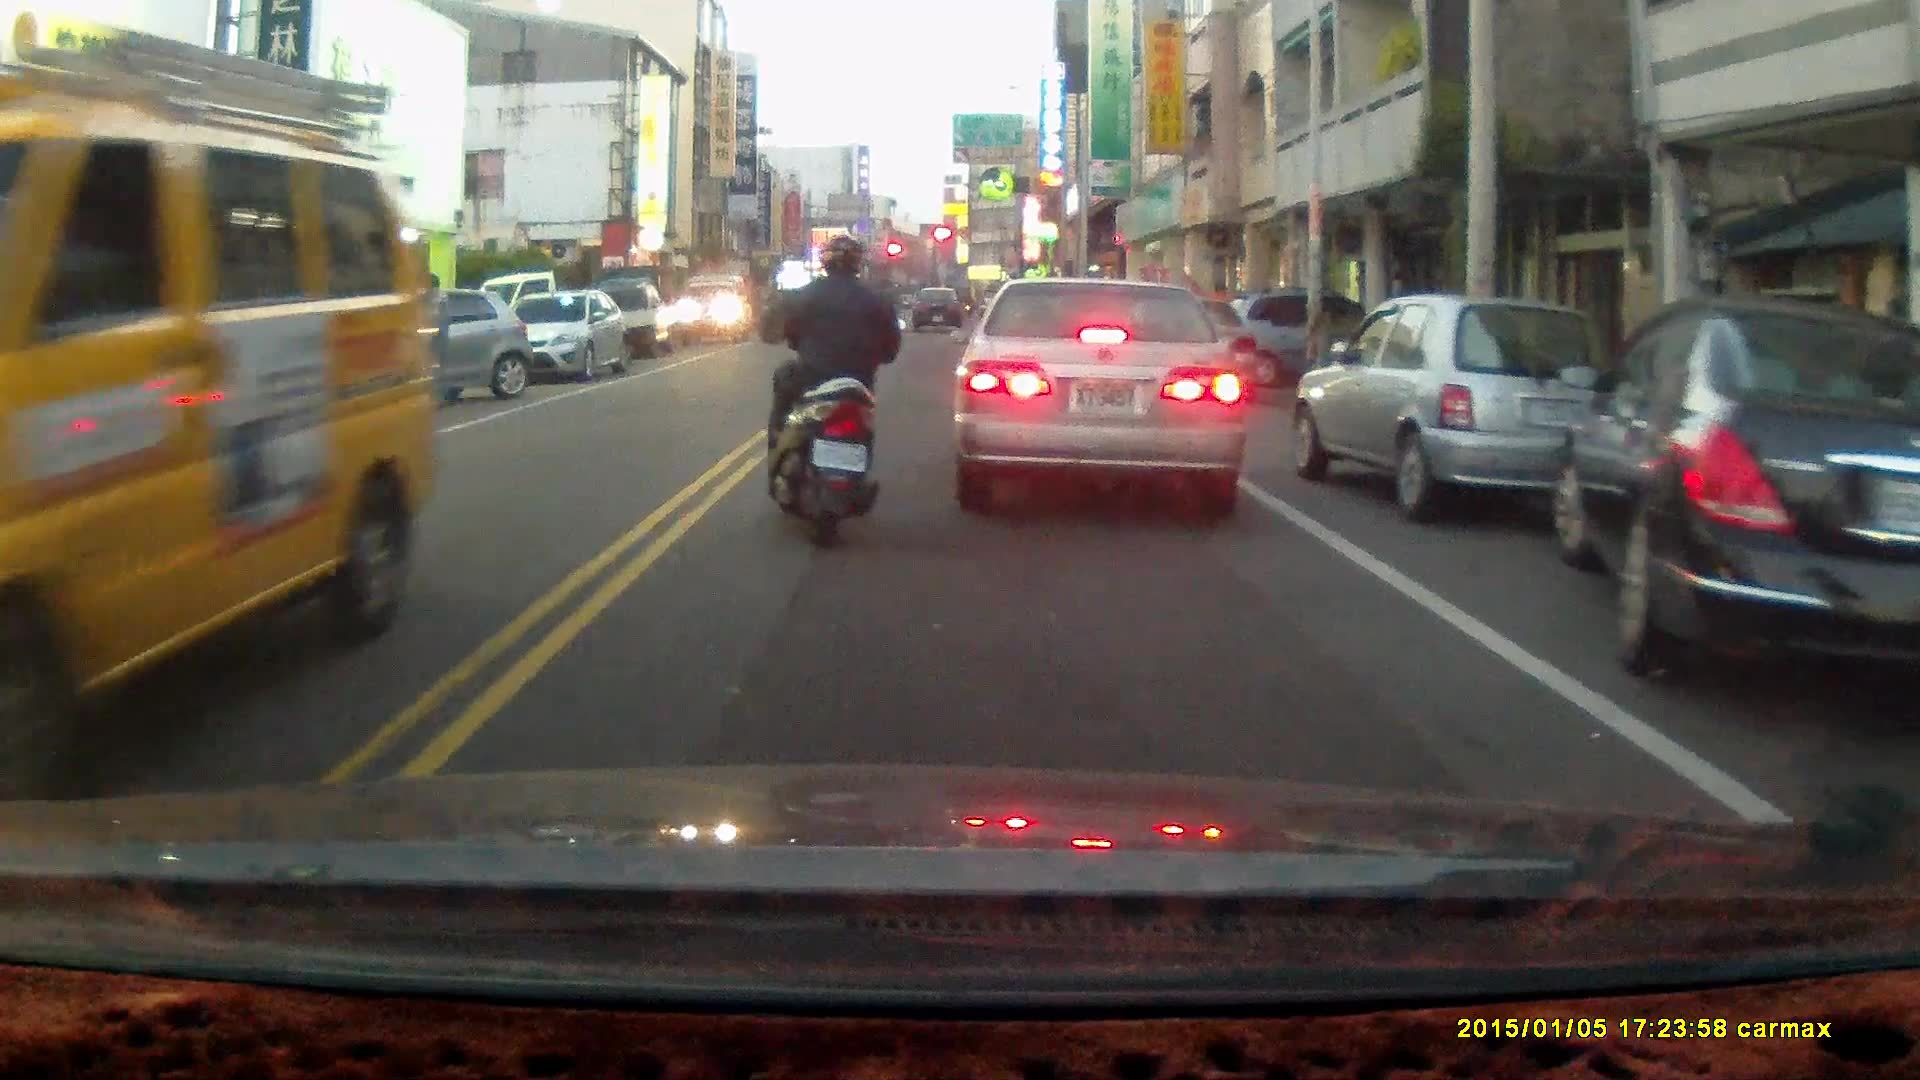rider: (769, 238, 915, 558)
vehicle: (1, 49, 444, 800), (1548, 299, 1920, 719), (1289, 299, 1619, 529), (952, 276, 1252, 515), (312, 281, 530, 408), (512, 288, 636, 385), (676, 274, 761, 343)
